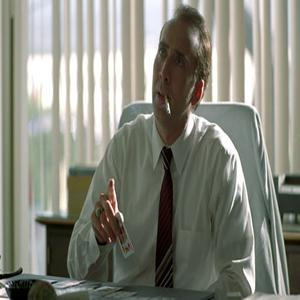cigarette: (163, 95, 172, 118)
